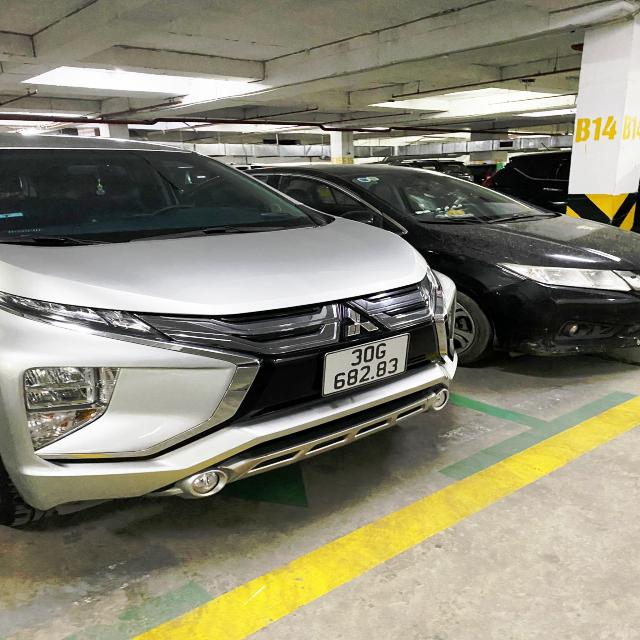license_plate: (322, 333, 412, 399)
